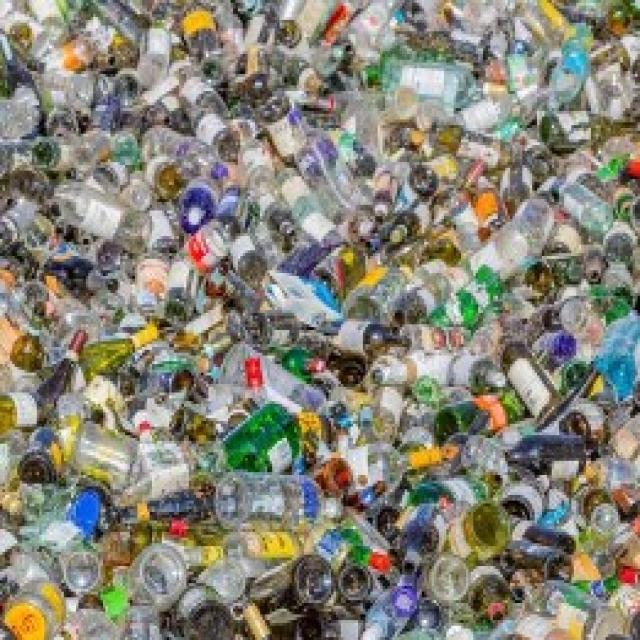electronic: (222, 397, 301, 478)
